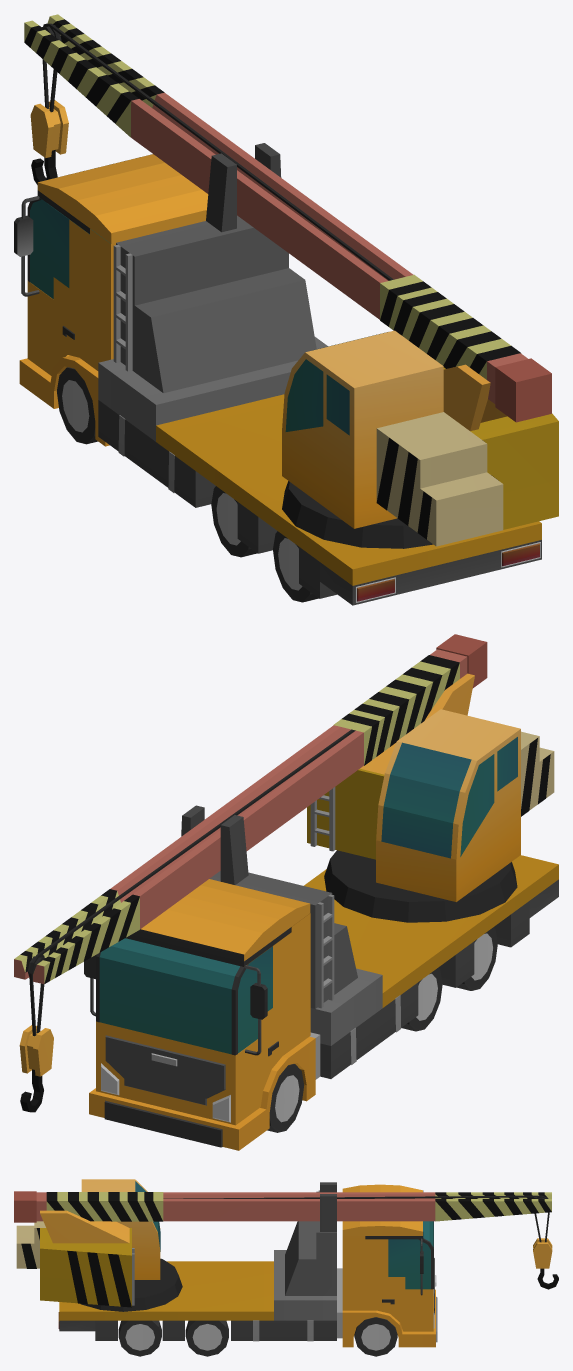
Rendered from CraneTruck.glb.
3 renders of one model, top to bottom at view 1: azimuth 30°, elevation 25°; view 2: azimuth 150°, elevation 25°; view 3: azimuth 270°, elevation 25°, orthographic. The views are drawn at different scales.
Visible parts, largest first — view 1: crane_truck_02; view 2: crane_truck_02; view 3: crane_truck_02.
Boxes of the visible parts, x1,y1,x2,y2 form: crane_truck_02: [14, 14, 558, 605]; crane_truck_02: [14, 634, 558, 1150]; crane_truck_02: [14, 1179, 558, 1356].
Size of the model in its own units: 0.9941 by 1.24 by 3.91.
Materials: 1 (1 with a texture image).
